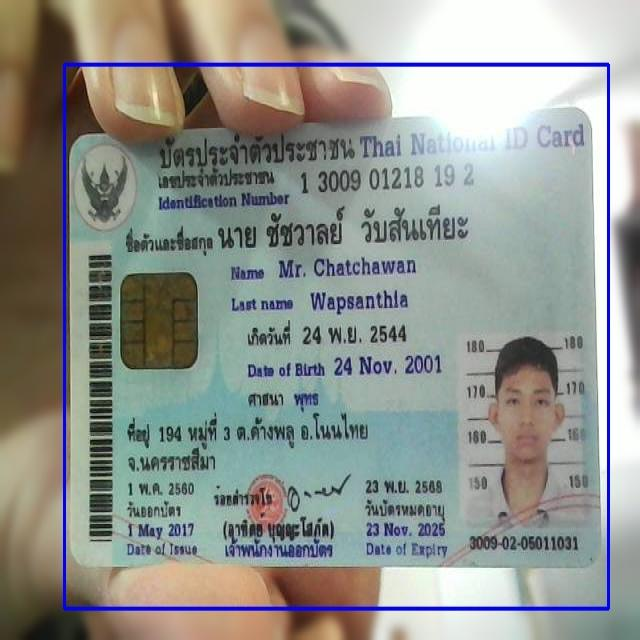Address_th: (123, 410, 376, 476)
Date_of_Birth: (330, 349, 445, 385)
Date_of_Expiry: (364, 519, 449, 542)
Date_of_Issue: (124, 520, 197, 543)
First_Name: (275, 251, 417, 280)
ID_Number: (295, 162, 480, 196)
Image: (456, 331, 592, 531)
Last_Name: (304, 284, 412, 319)
Thai_Name: (213, 201, 478, 252)
